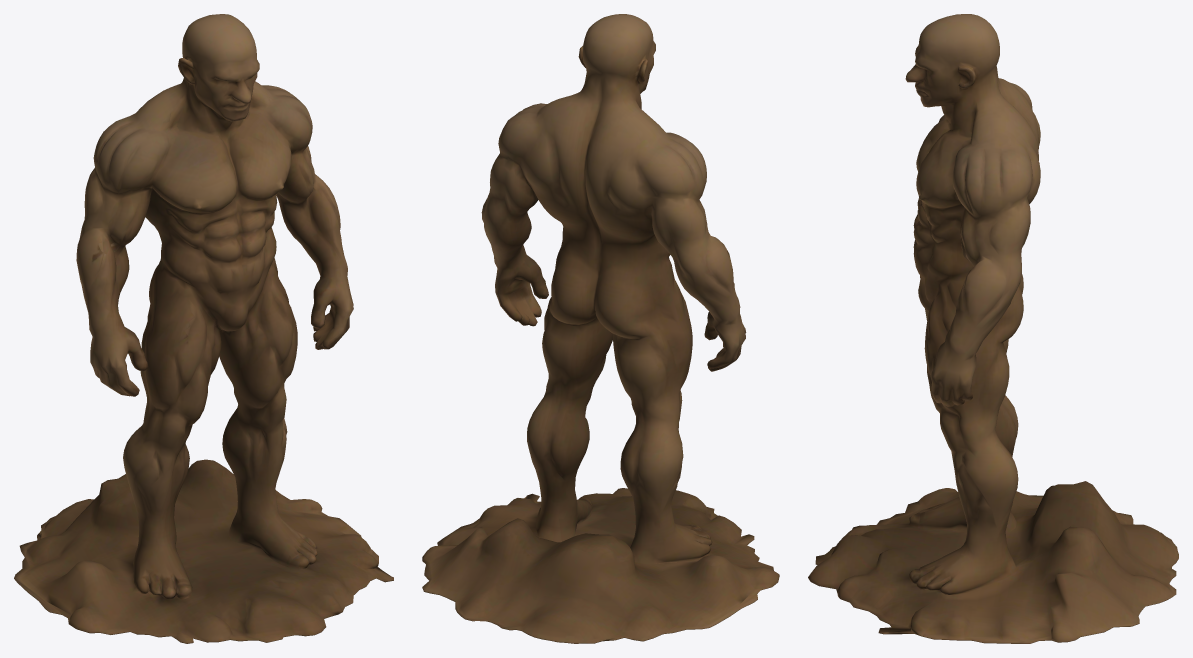
File: rocky_outcrop_90599d8a_v1.glb
The picture shows the model from 3 angles, left to right: view 1: azimuth 30°, elevation 25°; view 2: azimuth 150°, elevation 25°; view 3: azimuth 270°, elevation 25°; orthographic projection. The views are drawn at different scales.
Visible parts, largest first — view 1: material; view 2: material; view 3: material.
Part boxes in pixels (x1,y1,x2,y2): material: (14,14,393,643); material: (422,14,779,643); material: (808,14,1178,643).
Size of the model in its own units: 1.11 by 1.9 by 1.16.
1 material, 1 textured.
